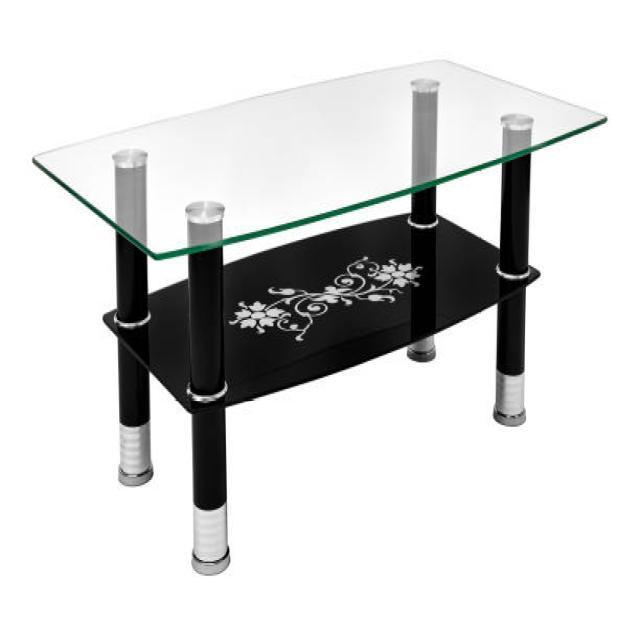table: (31, 55, 608, 576)
